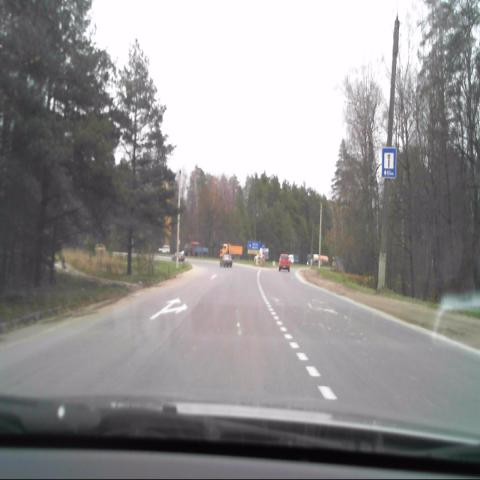7_4: (381, 145, 397, 180)
